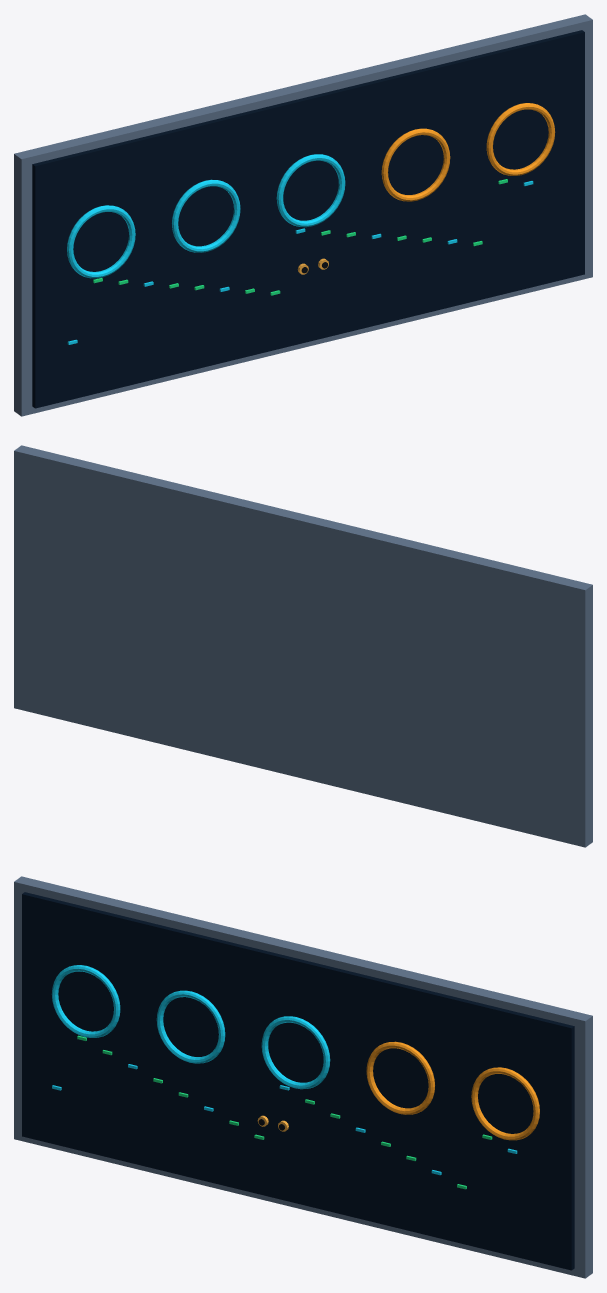
The model's file is 90_L90_MissionPropulsionSCADA.fbx.
3 renders of one model, top to bottom at view 1: azimuth 30°, elevation 25°; view 2: azimuth 150°, elevation 25°; view 3: azimuth 330°, elevation 25°, orthographic.
Visible parts, largest first — view 1: L90_MissionPropulsionSCADA, L90_MissionPropulsionSCADA_Part_0002, L90_MissionPropulsionSCADA_Part_0003; view 2: L90_MissionPropulsionSCADA; view 3: L90_MissionPropulsionSCADA, L90_MissionPropulsionSCADA_Part_0002, L90_MissionPropulsionSCADA_Part_0003.
Boxes of the visible parts, <box> form: L90_MissionPropulsionSCADA: <box>14,14,592,416</box>; L90_MissionPropulsionSCADA_Part_0002: <box>67,154,345,278</box>; L90_MissionPropulsionSCADA_Part_0003: <box>381,103,555,201</box>; L90_MissionPropulsionSCADA: <box>14,445,592,847</box>; L90_MissionPropulsionSCADA: <box>14,876,592,1278</box>; L90_MissionPropulsionSCADA_Part_0002: <box>51,965,330,1089</box>; L90_MissionPropulsionSCADA_Part_0003: <box>366,1041,539,1140</box>.
Size of the model in its own units: 790 by 340 by 61.2.
